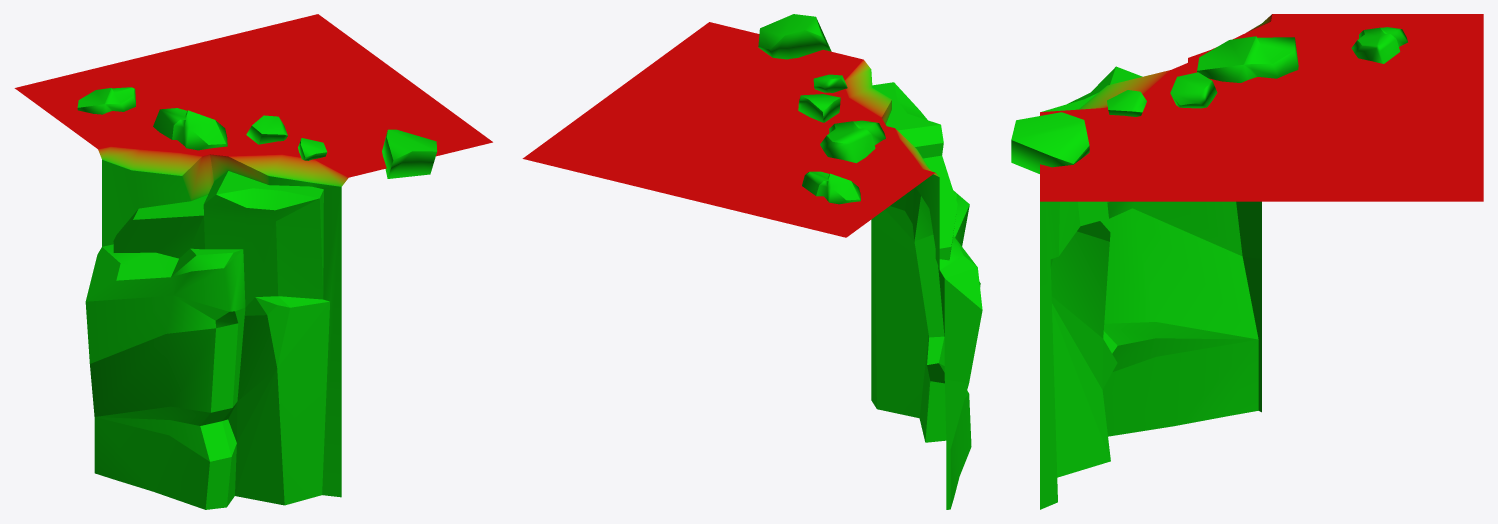
Rendered from Cliff_InteriorCorner.fbx.
3 views of the same model, side by side, from view 1: azimuth 30°, elevation 25°; view 2: azimuth 150°, elevation 25°; view 3: azimuth 270°, elevation 25° (orthographic). The views are drawn at different scales.
Visible parts, largest first — view 1: cliff_interiorCorner; view 2: cliff_interiorCorner; view 3: cliff_interiorCorner.
Part boxes in pixels (x1,y1,x2,y2): cliff_interiorCorner: (14,14,492,509); cliff_interiorCorner: (522,14,982,509); cliff_interiorCorner: (1011,14,1483,509).
Size of the model in its own units: 219 by 213 by 215.
